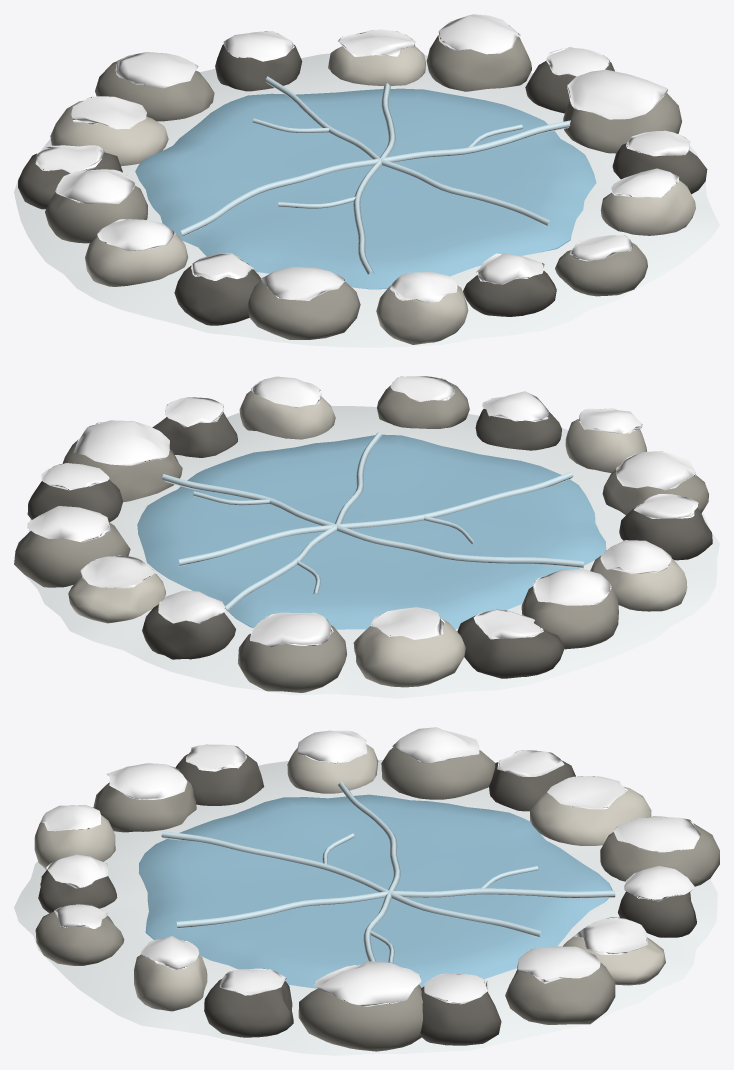
File: detail_frozen_pool.glb
3 renders of one model, top to bottom at view 1: azimuth 30°, elevation 25°; view 2: azimuth 150°, elevation 25°; view 3: azimuth 270°, elevation 25°, orthographic.
Visible parts, largest first — view 1: object 4, plaster, stone, object 10, object 6, object 7, object 9, object 12, object 13; view 2: object 4, plaster, stone, object 10, object 9, object 6, object 13, object 12, object 7; view 3: object 4, plaster, stone, object 12, object 9, object 7, object 13, object 10, object 6.
Part boxes in pixels (x1,y1,x2,y2): object 4: (135, 88, 596, 288); plaster: (14, 14, 719, 347); stone: (18, 35, 707, 344); object 10: (180, 158, 379, 237); object 6: (381, 120, 570, 162); object 7: (381, 158, 549, 227); object 9: (353, 158, 381, 274); object 12: (264, 76, 379, 159); object 13: (380, 83, 395, 158); object 4: (137, 434, 606, 629); plaster: (26, 376, 719, 698); stone: (14, 378, 712, 692); object 10: (336, 524, 583, 568); object 9: (337, 471, 573, 528); object 6: (161, 474, 335, 525); object 13: (178, 524, 335, 566); object 12: (225, 524, 336, 611); object 7: (335, 431, 382, 524); object 4: (139, 794, 611, 988); plaster: (14, 727, 717, 1055); stone: (34, 744, 719, 1051); object 12: (390, 888, 615, 898); object 9: (161, 831, 388, 892); object 7: (176, 891, 388, 928); object 13: (389, 891, 540, 938); object 10: (338, 781, 400, 890); object 6: (363, 891, 391, 961).
Size of the model in its own units: 1.4 by 0.14 by 1.4.
